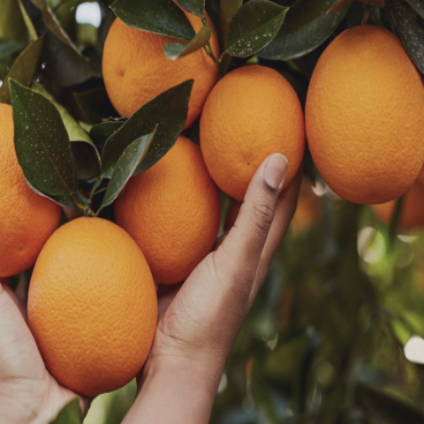orange: (14, 212, 167, 391), (285, 13, 422, 207), (194, 47, 311, 208)
